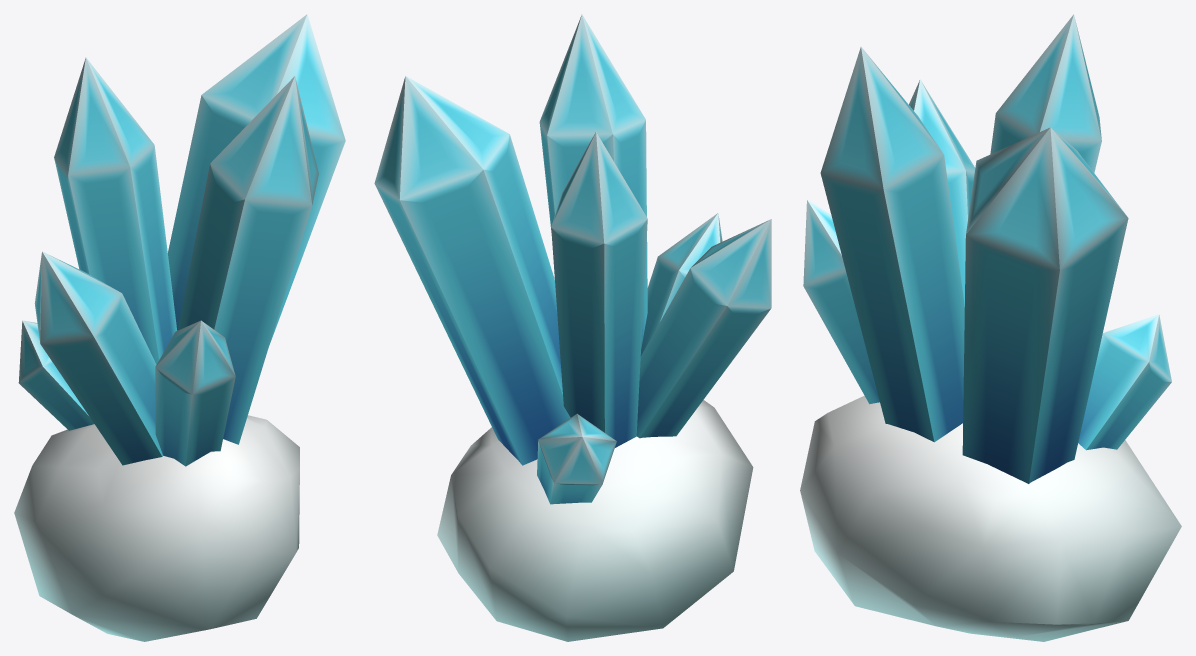
File: Prop_Ice_Block_B.fbx
3 views of the same model, side by side, from view 1: azimuth 30°, elevation 25°; view 2: azimuth 150°, elevation 25°; view 3: azimuth 270°, elevation 25° (orthographic). The views are drawn at different scales.
Visible parts, largest first — view 1: Prop_Ice_Block_B; view 2: Prop_Ice_Block_B; view 3: Prop_Ice_Block_B.
Part boxes in pixels (x1=…): Prop_Ice_Block_B: x1=14, y1=14, x2=345, y2=641; Prop_Ice_Block_B: x1=374, y1=14, x2=771, y2=641; Prop_Ice_Block_B: x1=800, y1=14, x2=1181, y2=641.
Size of the model in its own units: 66.29 by 103 by 56.51.
Materials: 1 (1 with a texture image).
